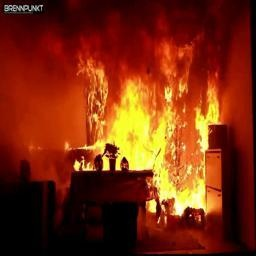fire: (64, 27, 227, 224)
